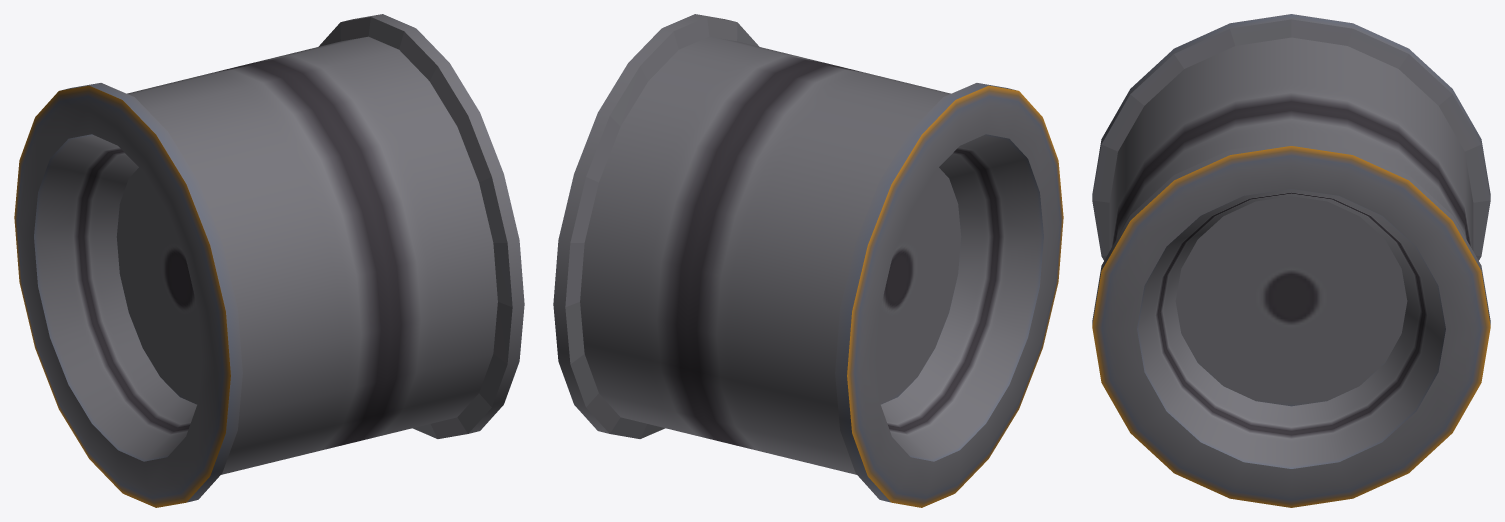
The model's file is Chariot03_chelun_sunhui.FBX.
3 views of the same model, side by side, from view 1: azimuth 30°, elevation 25°; view 2: azimuth 150°, elevation 25°; view 3: azimuth 270°, elevation 25° (orthographic). The views are drawn at different scales.
Visible parts, largest first — view 1: Chariot03_chelun_sunhui; view 2: Chariot03_chelun_sunhui; view 3: Chariot03_chelun_sunhui.
Part boxes in pixels (left/top/right/bottom): Chariot03_chelun_sunhui: left=14, top=14, right=524, bottom=507; Chariot03_chelun_sunhui: left=553, top=14, right=1063, bottom=507; Chariot03_chelun_sunhui: left=1092, top=14, right=1490, bottom=507.
Bounding box in the file's own units: 21.84 × 27.09 × 27.02.
